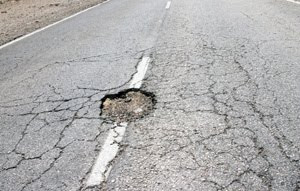pothole: (98, 80, 160, 126)
